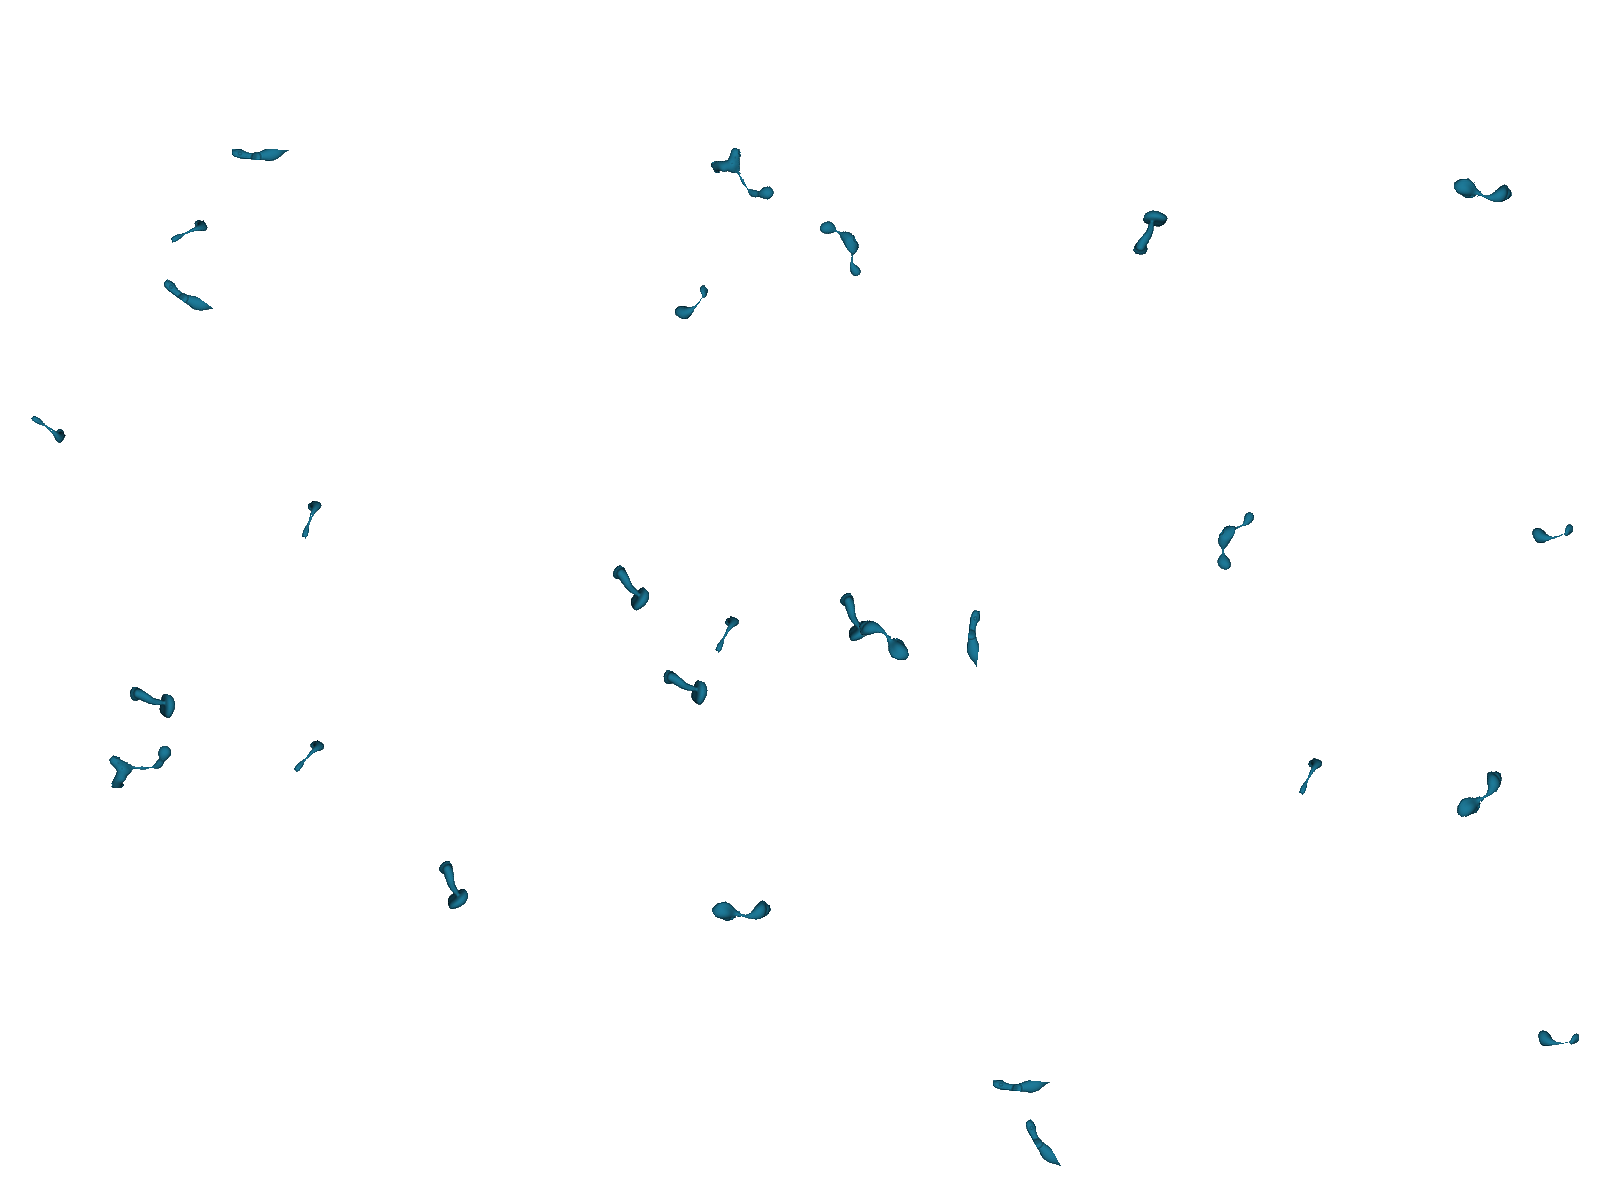Detached ligament: (706, 136, 779, 217), (1198, 502, 1265, 577), (814, 207, 876, 284), (1450, 760, 1507, 826), (850, 616, 916, 667), (105, 742, 173, 789), (157, 275, 217, 324), (601, 562, 655, 615), (709, 887, 774, 930), (1019, 1116, 1063, 1177), (826, 589, 874, 645), (426, 857, 472, 914), (656, 668, 712, 708), (1131, 205, 1170, 262), (1453, 171, 1513, 205), (123, 684, 179, 721), (670, 282, 716, 326), (289, 736, 328, 779), (166, 216, 210, 251), (960, 608, 984, 671), (25, 411, 69, 445), (711, 613, 741, 658), (991, 1076, 1052, 1099), (1295, 755, 1324, 800), (231, 145, 291, 166), (1529, 521, 1575, 547), (299, 498, 323, 543), (1534, 1029, 1580, 1050)
